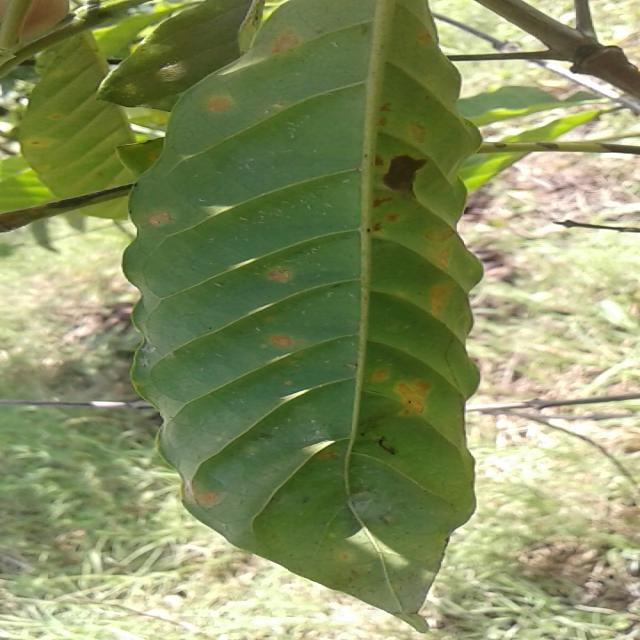Enfermedad-Roya: (120, 0, 484, 625)
